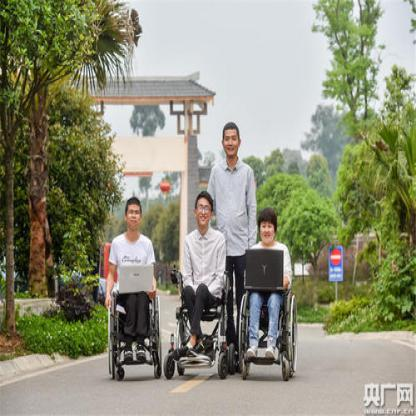wheelchair: (159, 190, 240, 382), (103, 195, 165, 378), (238, 206, 300, 382)
